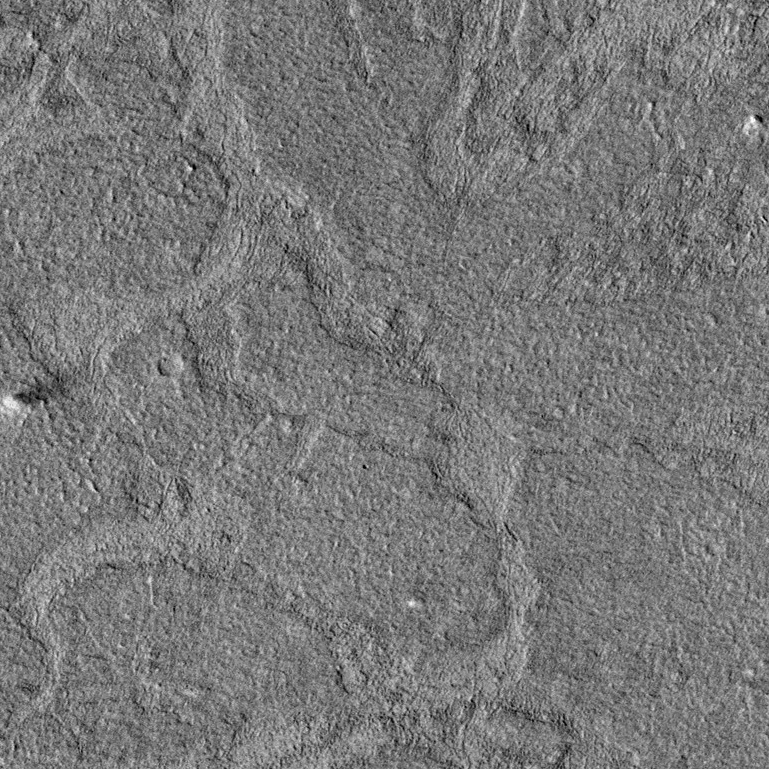dust_devil: (1, 372, 75, 416)
